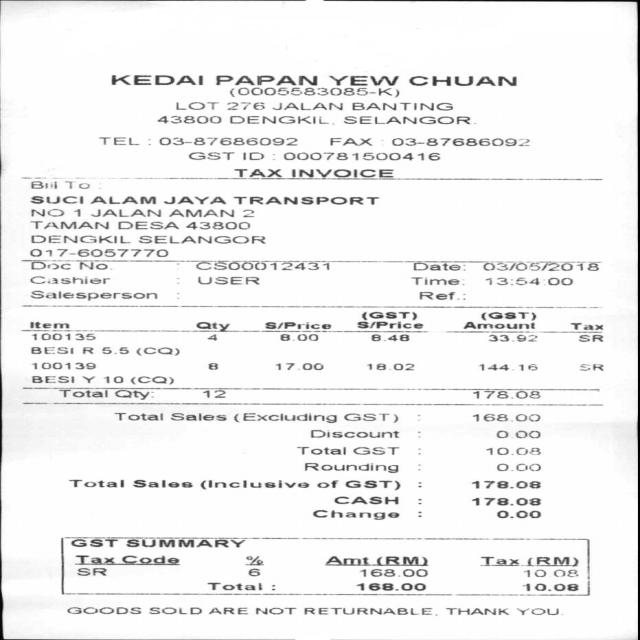text: (228, 87, 398, 96), (29, 290, 156, 300), (282, 152, 438, 160), (232, 196, 378, 204), (158, 137, 296, 145), (391, 138, 528, 146), (29, 248, 166, 256), (194, 262, 331, 270), (407, 76, 515, 86), (342, 116, 474, 124), (324, 556, 427, 566), (215, 75, 316, 85), (233, 412, 334, 422), (138, 235, 264, 243), (199, 479, 308, 488), (304, 462, 397, 472), (291, 169, 394, 178), (110, 74, 202, 84), (483, 262, 598, 270), (30, 234, 128, 243), (126, 539, 245, 546), (351, 102, 451, 110), (228, 115, 327, 123), (304, 608, 436, 614), (312, 510, 398, 519), (309, 430, 397, 438), (484, 276, 571, 284), (329, 75, 398, 85), (30, 276, 109, 284), (30, 220, 108, 228), (462, 321, 535, 329), (67, 606, 140, 614), (272, 102, 342, 110), (89, 208, 159, 216), (471, 480, 540, 488), (471, 497, 540, 505), (359, 568, 427, 576), (356, 582, 424, 590), (345, 480, 399, 490), (168, 208, 233, 216), (526, 556, 578, 566), (156, 115, 219, 123), (333, 496, 396, 504), (361, 311, 416, 320), (481, 311, 536, 320), (117, 221, 178, 229), (197, 276, 258, 284), (343, 413, 397, 422), (356, 321, 425, 328), (471, 391, 540, 398), (233, 168, 281, 178), (131, 479, 191, 487), (263, 322, 330, 329), (472, 414, 539, 421), (121, 555, 178, 563), (90, 196, 154, 203), (411, 262, 460, 271), (523, 569, 578, 577), (206, 582, 261, 590), (522, 583, 577, 591), (163, 196, 225, 203), (410, 276, 463, 284), (69, 538, 116, 547), (148, 606, 200, 614), (58, 389, 109, 397), (478, 363, 536, 370), (295, 446, 344, 454), (29, 261, 72, 270), (184, 222, 248, 228), (112, 412, 160, 420), (31, 333, 94, 339), (31, 362, 94, 368), (446, 608, 508, 614), (29, 196, 82, 203), (69, 479, 122, 486), (352, 446, 397, 454), (495, 510, 540, 518), (174, 413, 224, 420), (129, 376, 172, 384), (495, 463, 538, 471), (329, 137, 371, 145), (488, 334, 536, 341), (30, 346, 72, 354), (136, 347, 178, 355), (275, 362, 322, 369), (254, 606, 295, 614), (486, 448, 540, 454), (98, 136, 138, 144), (74, 555, 114, 563), (188, 152, 233, 159), (367, 363, 412, 370), (494, 430, 539, 437), (115, 390, 149, 399), (480, 556, 518, 564), (208, 606, 246, 614), (174, 102, 217, 109), (27, 321, 70, 328), (196, 321, 229, 330), (418, 292, 454, 300), (569, 322, 603, 330), (280, 334, 318, 341), (370, 334, 408, 341), (30, 208, 63, 216), (78, 261, 107, 270), (227, 102, 263, 109), (31, 376, 73, 382), (516, 608, 558, 614), (75, 568, 104, 576), (101, 346, 127, 354), (202, 390, 226, 398), (31, 181, 56, 188), (65, 181, 89, 188), (578, 334, 602, 341), (579, 363, 602, 370), (243, 152, 262, 160), (317, 480, 337, 487), (245, 556, 262, 564), (103, 376, 122, 382), (242, 208, 253, 216), (247, 568, 258, 576), (82, 376, 93, 382), (74, 208, 82, 216), (82, 347, 92, 353), (208, 362, 216, 369), (207, 334, 216, 339), (148, 139, 149, 144)
